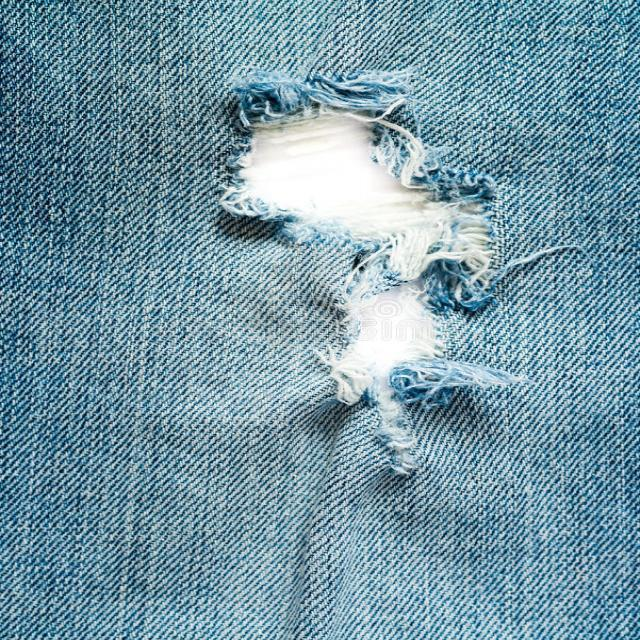Hole: (221, 72, 520, 474)
